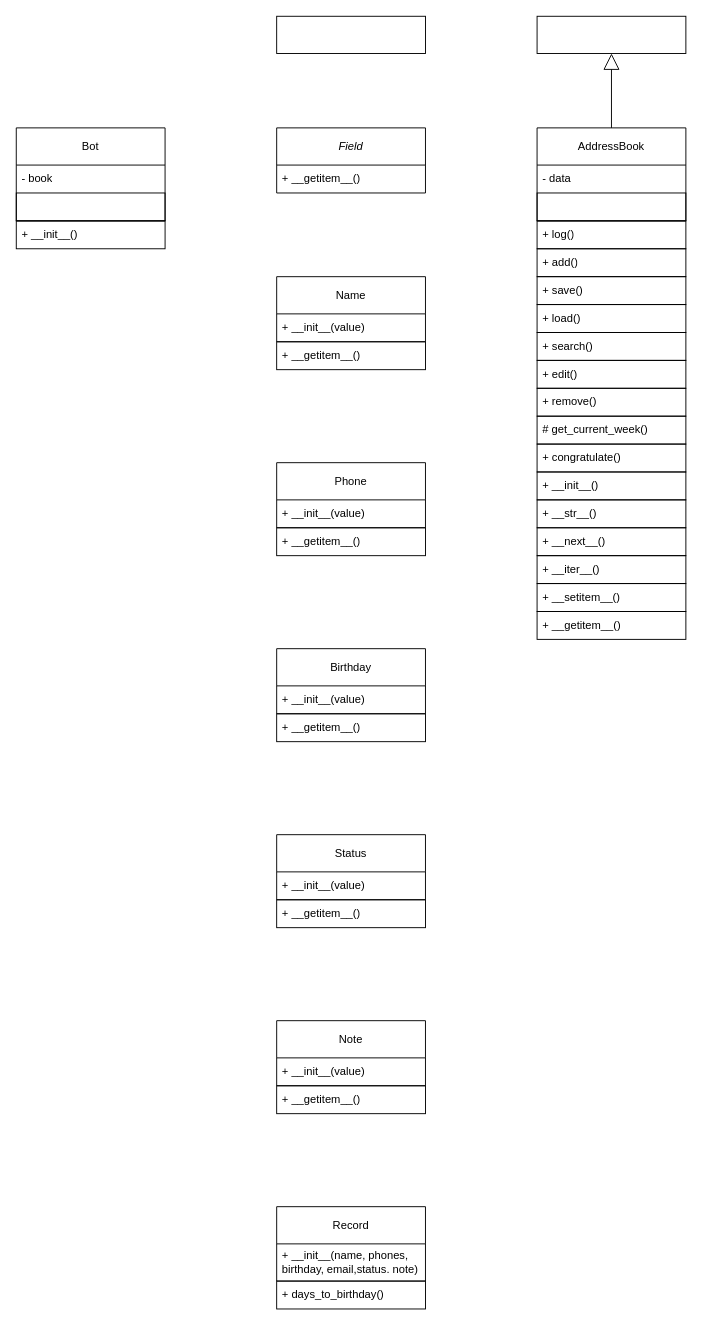
Image size: 702x1325. Some labels were removed from this diagram. Each missing label, with the centre of its shape:
"+ handle()" goes at pixel 90 206.
"- counter" goes at pixel 611 206.
"ABC" goes at pixel 350 34.
"UserList" goes at pixel 611 34.
